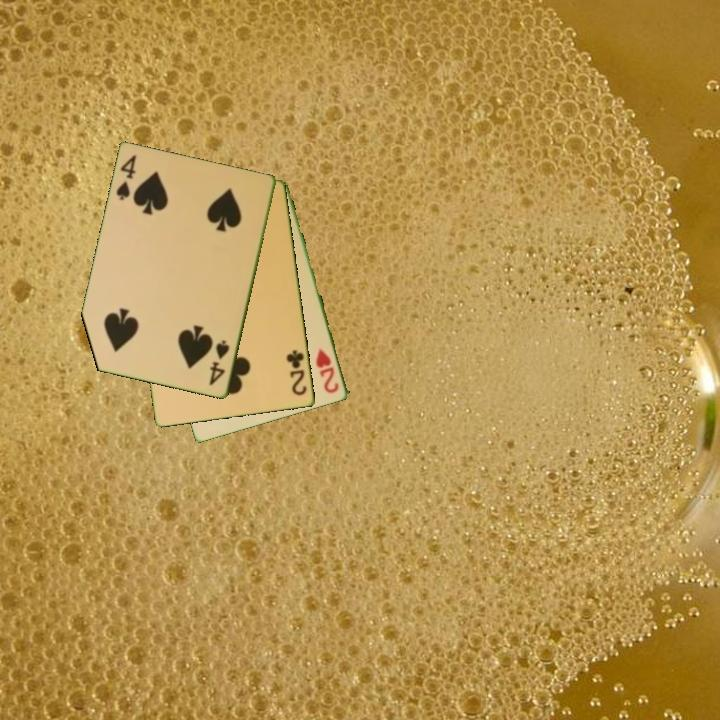2c: (283, 347, 310, 399)
2h: (313, 345, 342, 396)
4s: (206, 337, 233, 389), (113, 151, 139, 203)
